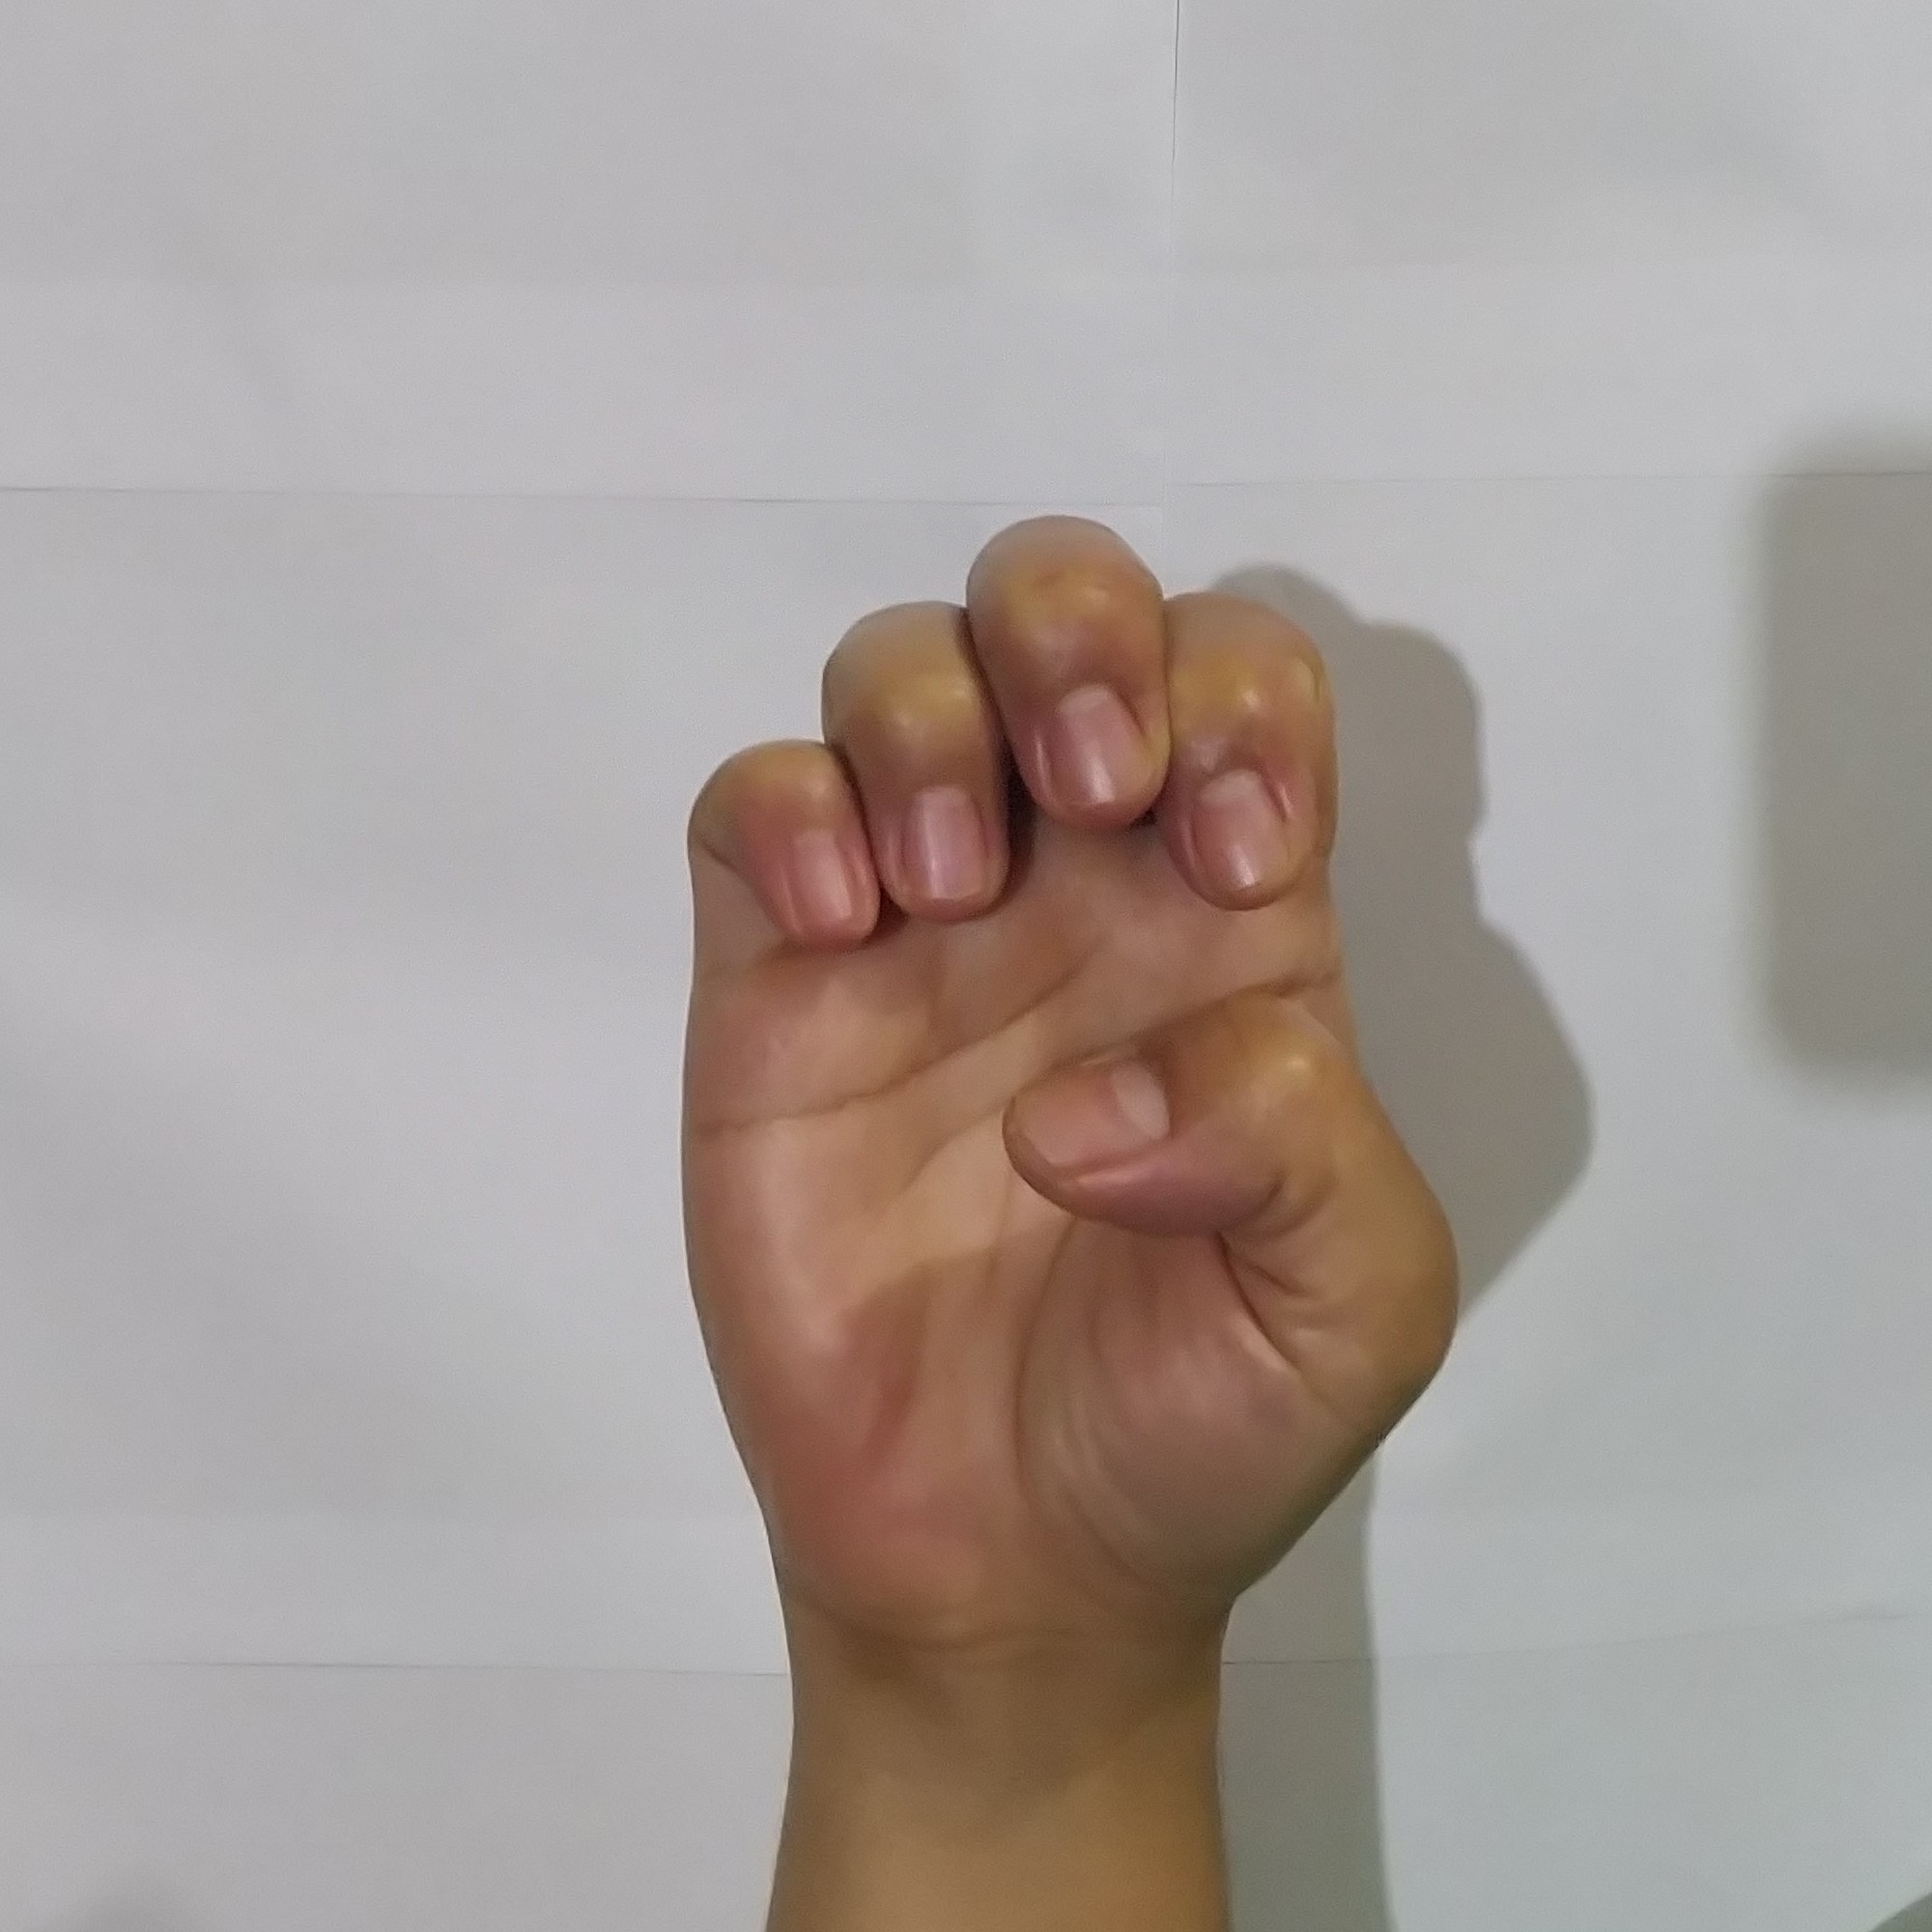E: (648, 485, 1484, 1608)
